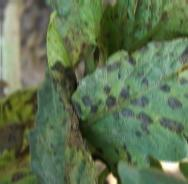Tomato leaf bacterial spot: (57, 13, 188, 149), (28, 64, 118, 184), (81, 0, 188, 87)
